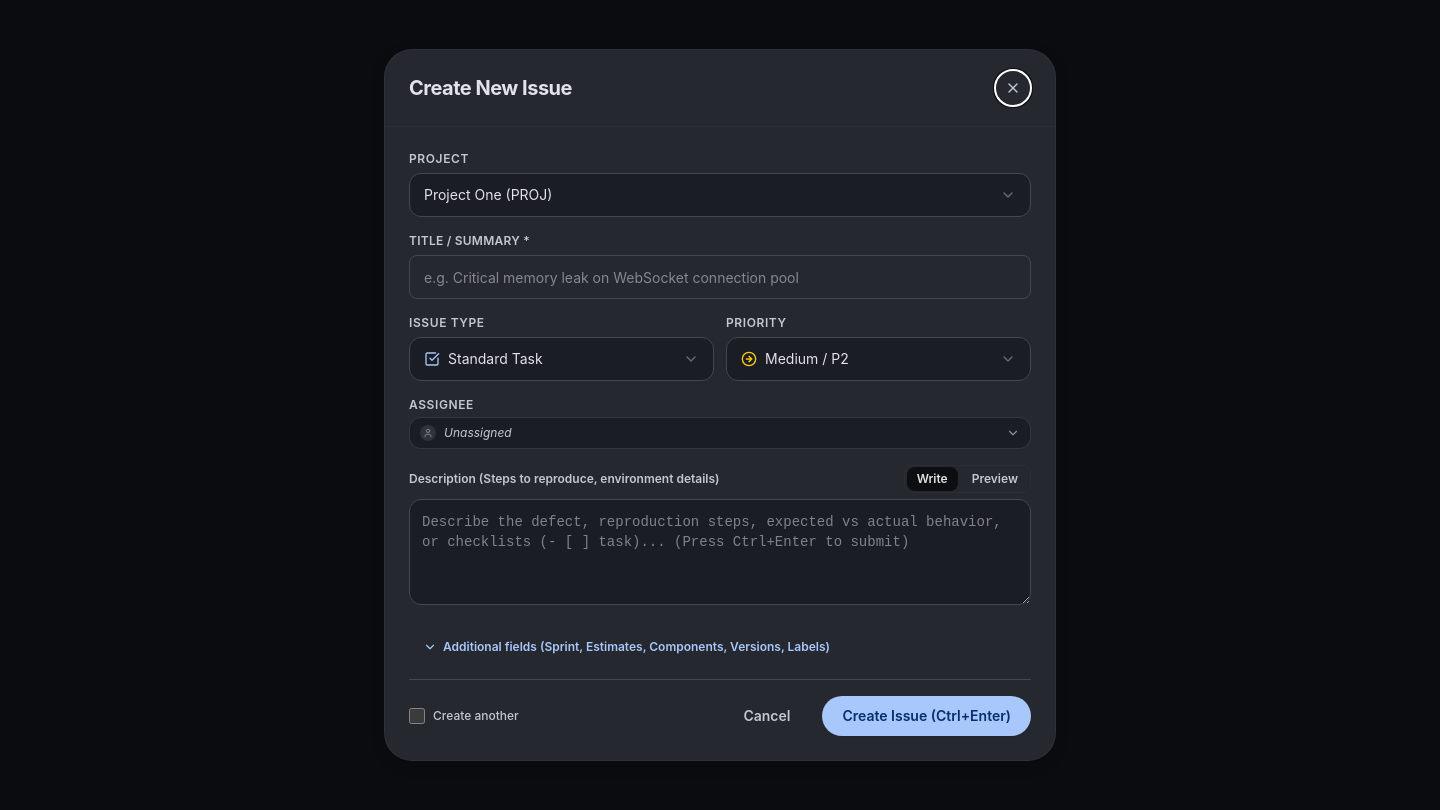
Scenario: IssueModal Progressive Disclosure & UX › expands additional fields when user clicks toggle button
Click the button "Additional fields" at (626,647), box [409,631,844,663]
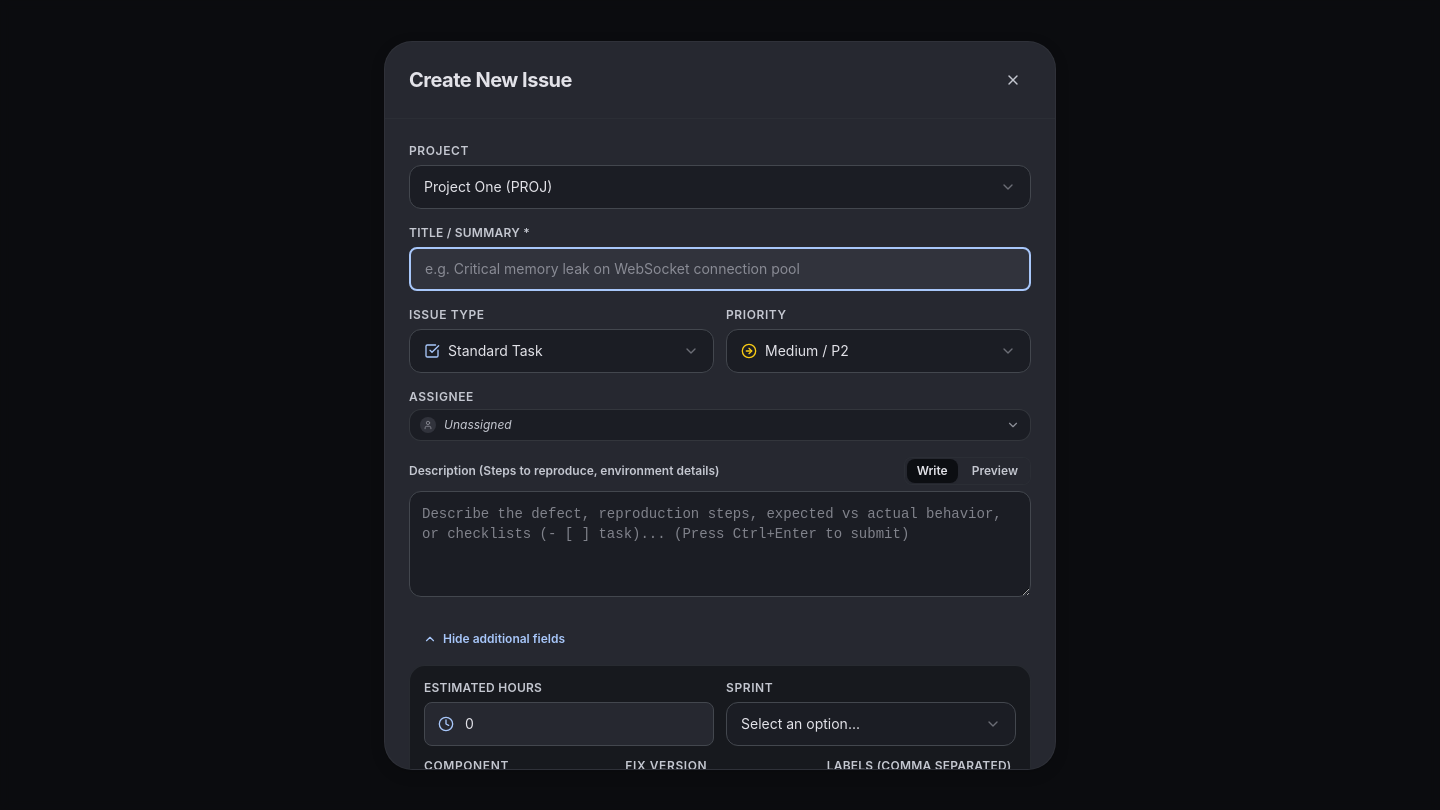
Result: the number field with placeholder "e.g. 4.0" is shown at [424,702,714,746]
Result: the text "Fix Version" is shown at [625,758,707,768]
Result: the button "Hide additional fields" is shown at [409,622,579,654]
